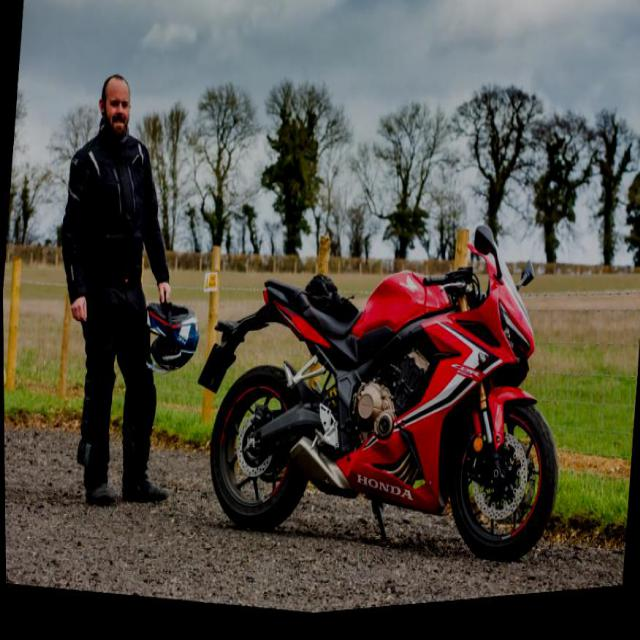CBR650R: (200, 211, 574, 602)
